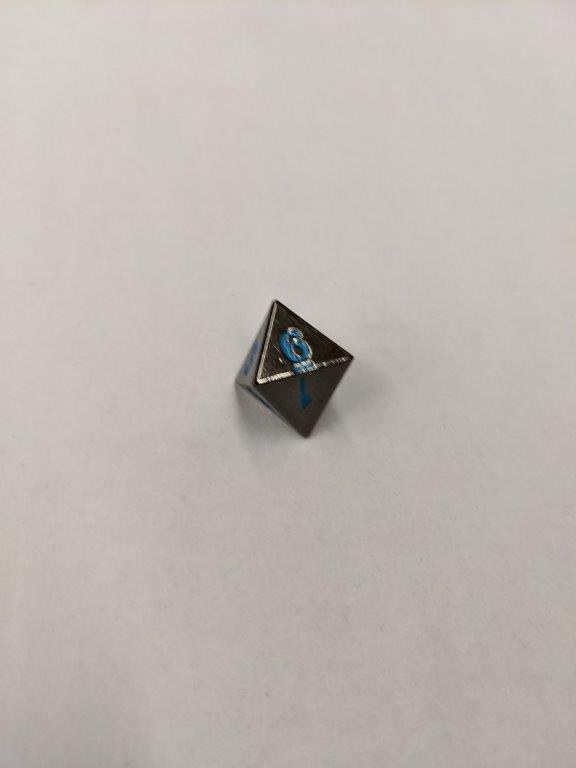d8-6: (231, 298, 356, 440)
